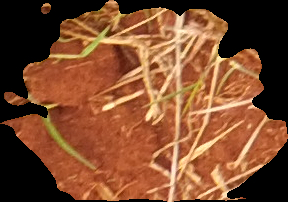soil: (4, 2, 284, 198)
